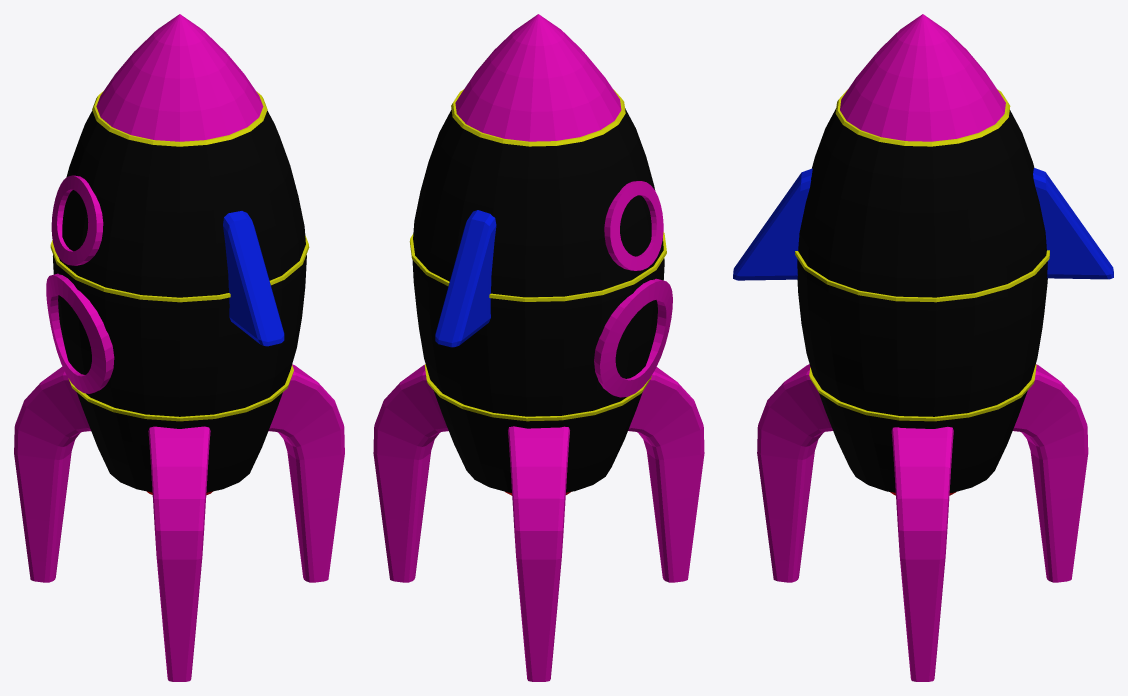
The model's file is rocket_optimed_UV.fbx.
3 renders of one model, left to right at view 1: azimuth 30°, elevation 25°; view 2: azimuth 150°, elevation 25°; view 3: azimuth 270°, elevation 25°, orthographic.
Parts seen in each view (by area): view 1: rocket; view 2: rocket; view 3: rocket.
Part boxes in pixels (x1,y1,x2,y2): rocket: (14,14,344,681); rocket: (373,14,704,681); rocket: (733,14,1113,681).
Bounding box in the file's own units: 220 × 465 × 269.
